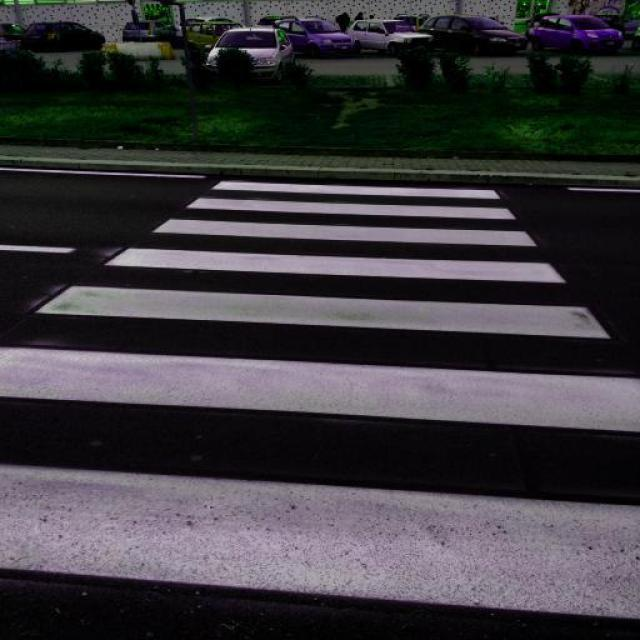crosswalk: (3, 178, 640, 620)
